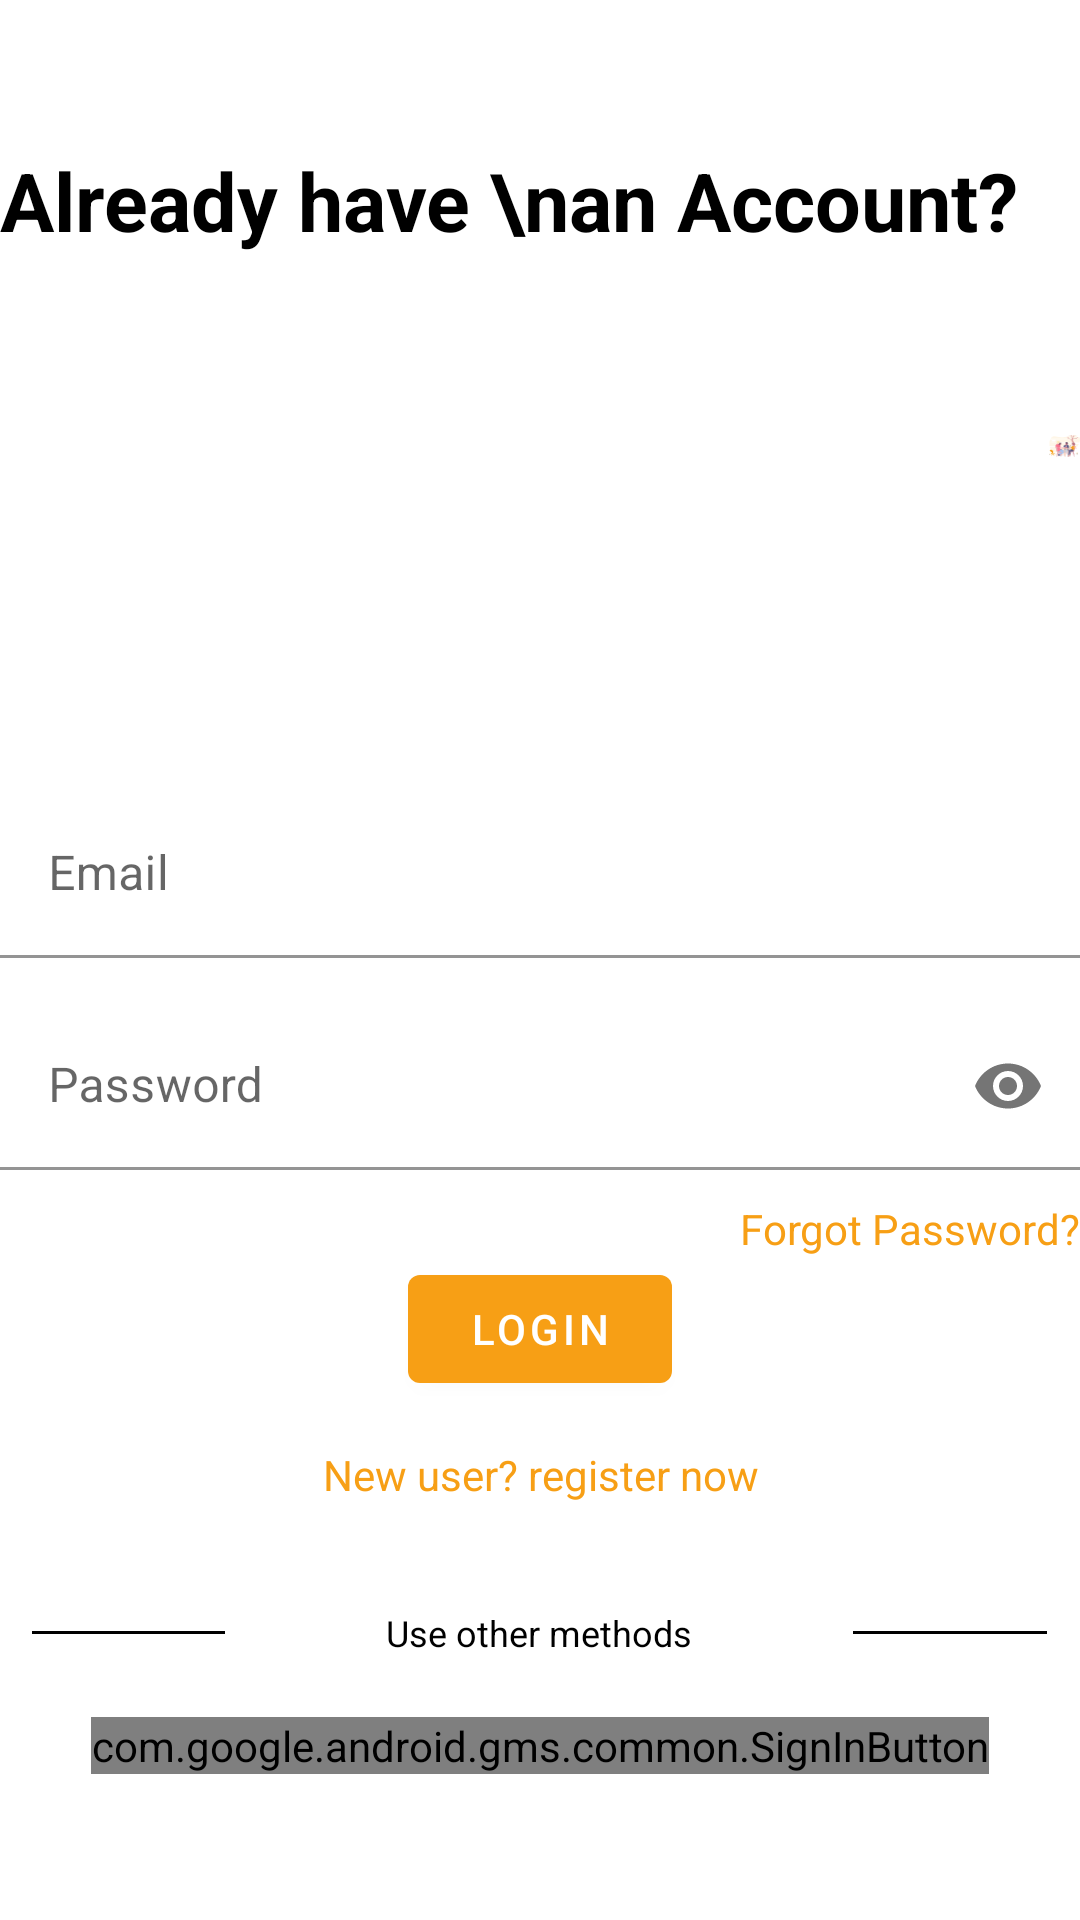

Screen size 1080*1920. Icon name, then its box in pixels as [x1,y1,x2,y2]:
undraw hangout: [1049,435,1078,457]
